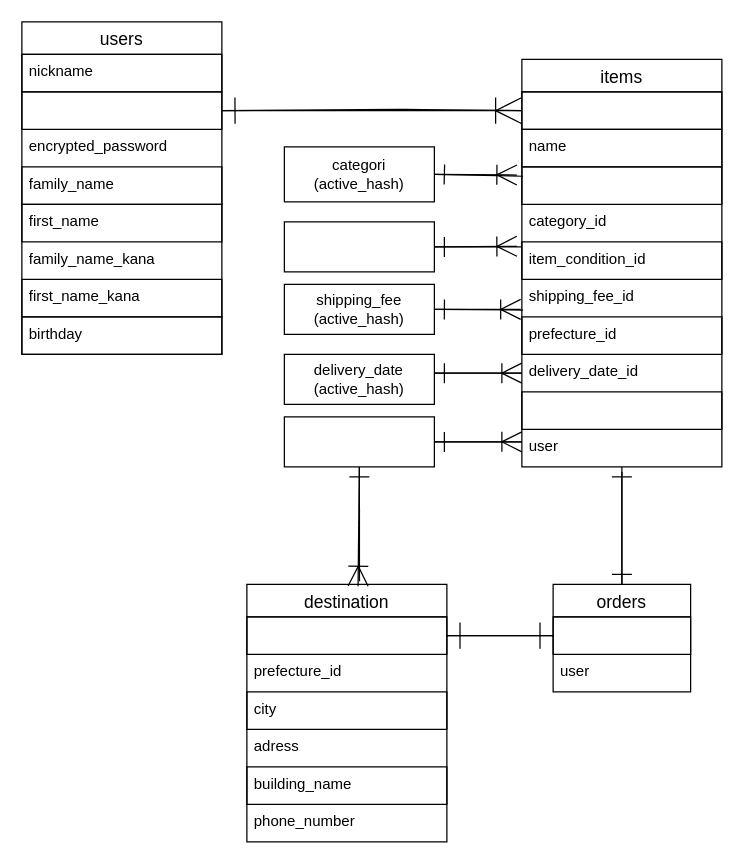
Some shapes in this 744 by 868 pixel diagram are drawn without their labels. Each missing label, with the centre of its shape:
"description" belongs at point (621, 185).
"email" belongs at point (121, 110).
"image" belongs at point (621, 110).
"item" belongs at point (621, 635).
"item_condition (active_hash)" belongs at point (358, 246).
"post_code" belongs at point (346, 635).
"prefecture (active_hash)" belongs at point (358, 441).
"price" belongs at point (621, 410).
